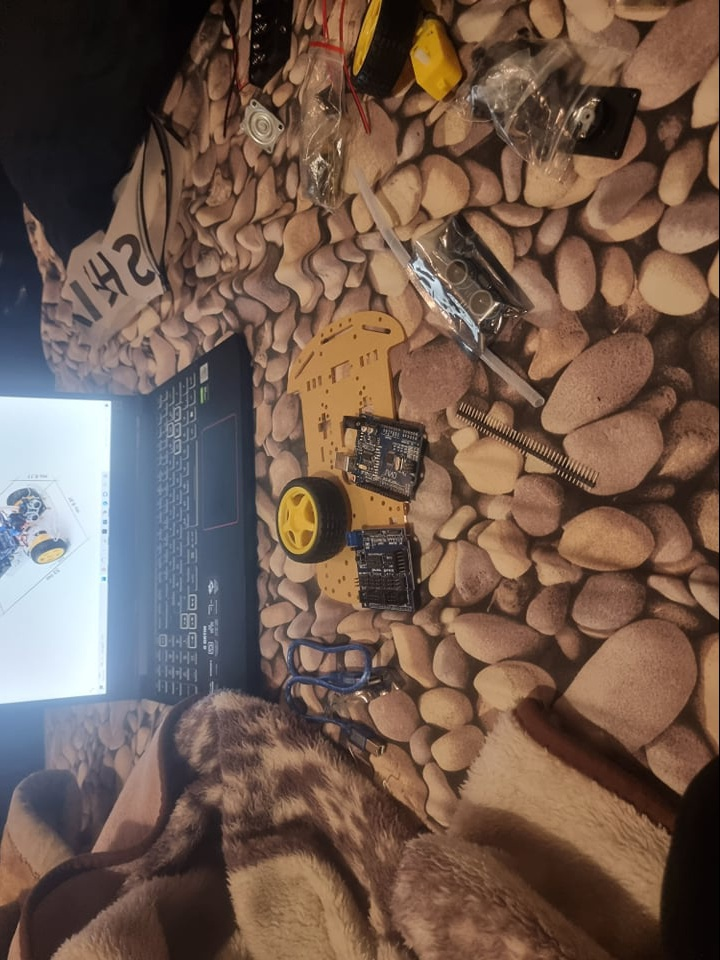5V EXPANSION: (346, 525, 422, 613)
BATTERY BOX: (246, 1, 292, 86)
SENSOR: (442, 259, 505, 320), (28, 499, 43, 523)
UNO R3: (335, 416, 426, 503)
